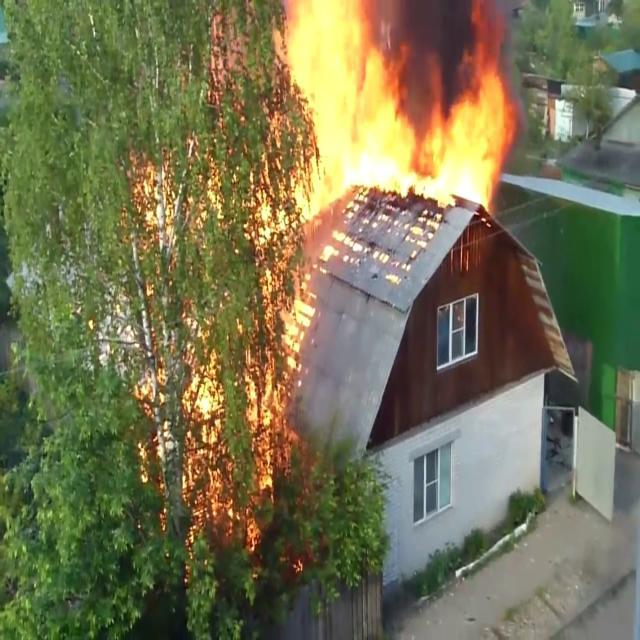Fire: (247, 1, 519, 244)
